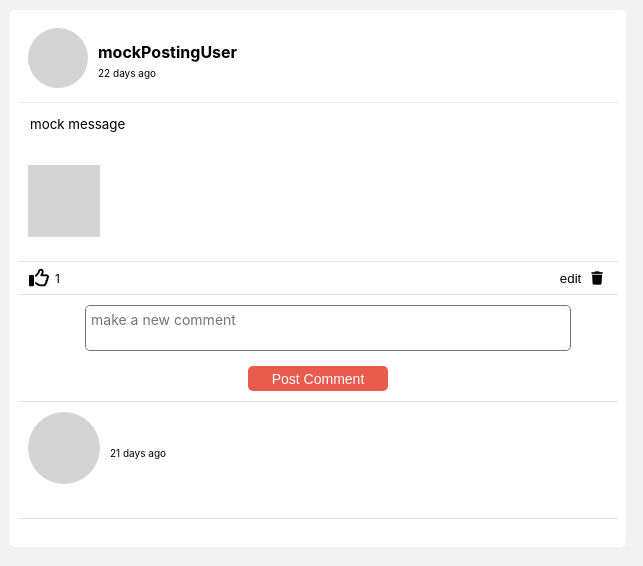
Test: Post component › displays edit button if user owns post and save button when user editting post
The width and height of the screenshot is (643, 566).
What coordinates should you click on to do the following:
click the button "edit"
I would click on:
 (571, 278)
Its box is [555,262,586,294].
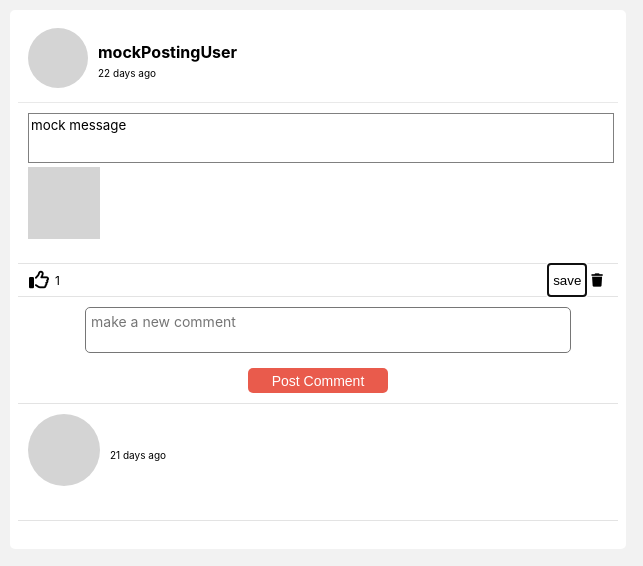
Expected: the button "save" is shown, [548,264,586,296]
